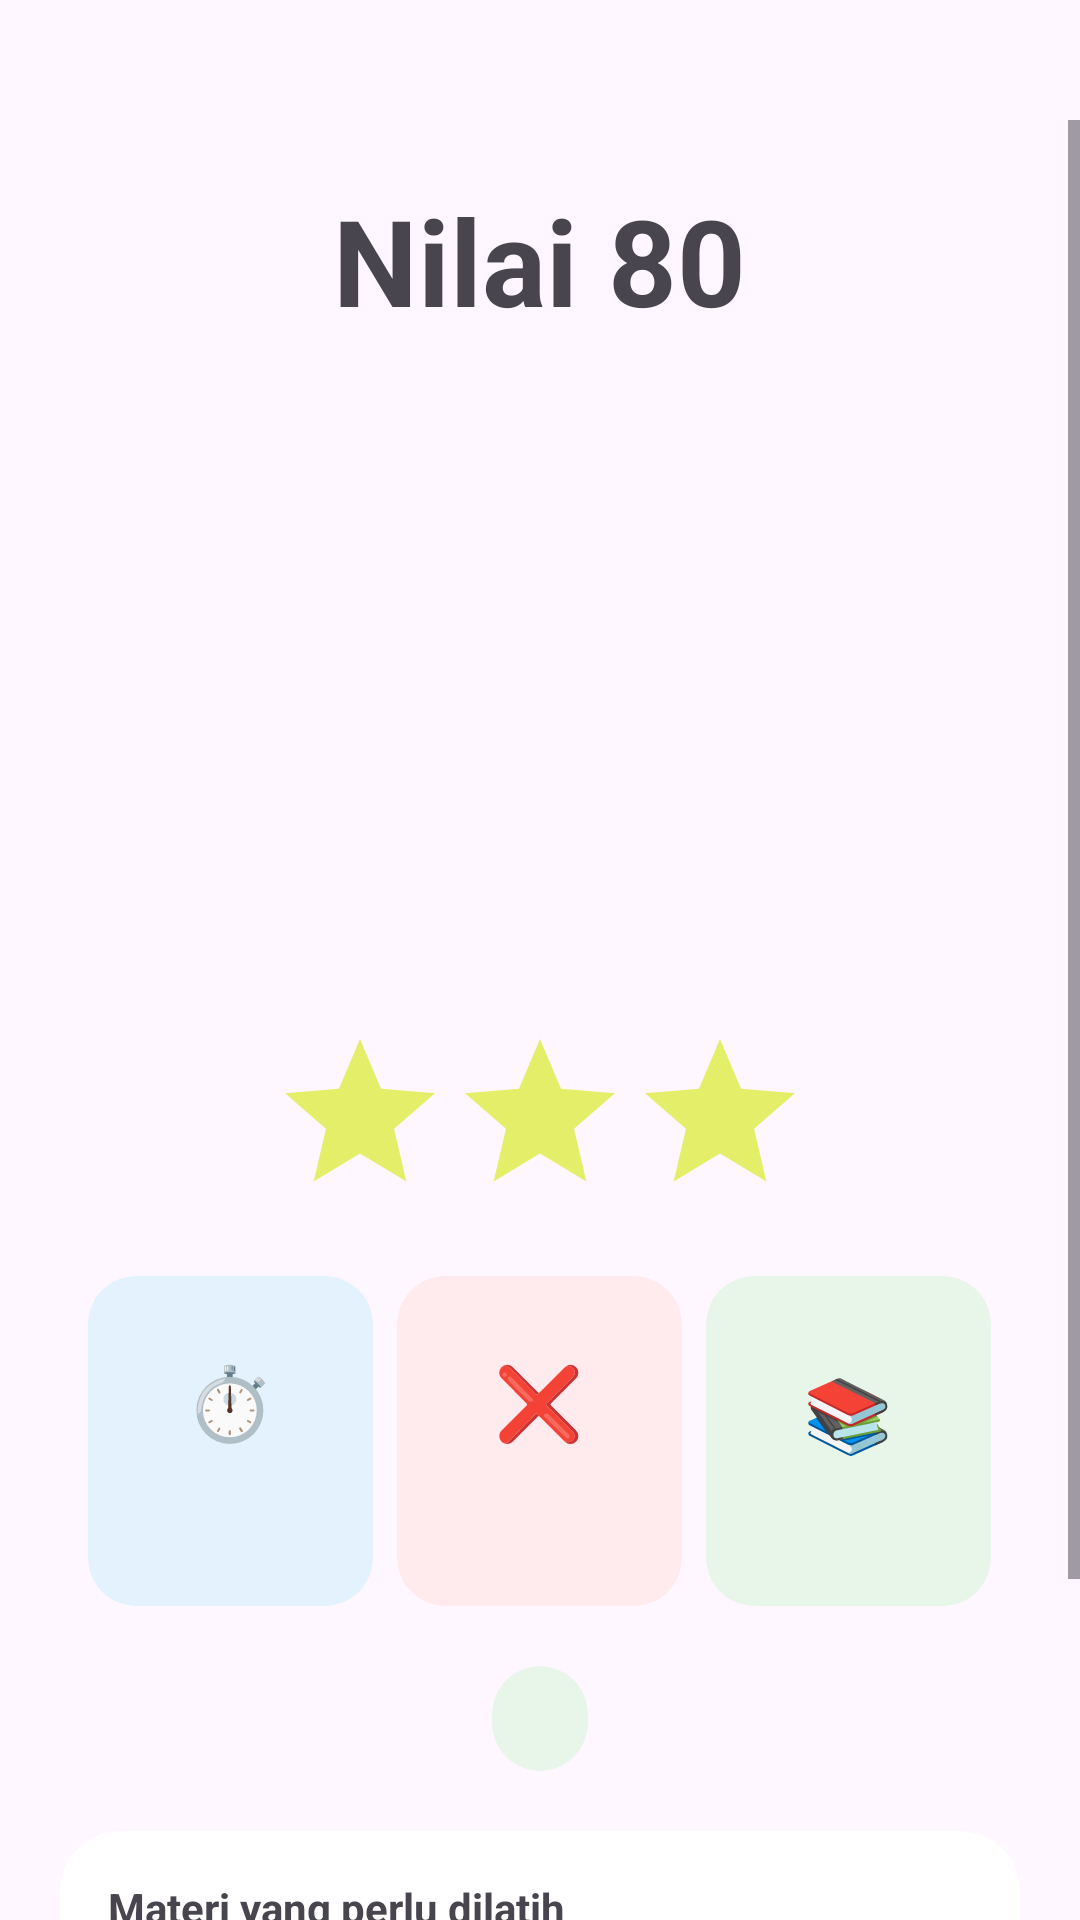

Icons on this 1080 × 1920 Android screen, each with the point to tap as (x=x, y=y):
star: (x=360, y=1110), (x=540, y=1110), (x=720, y=1110)
